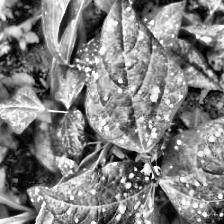Bean Rust: (83, 0, 176, 151), (47, 158, 163, 224), (161, 105, 224, 224), (140, 0, 187, 57), (25, 183, 59, 224)
